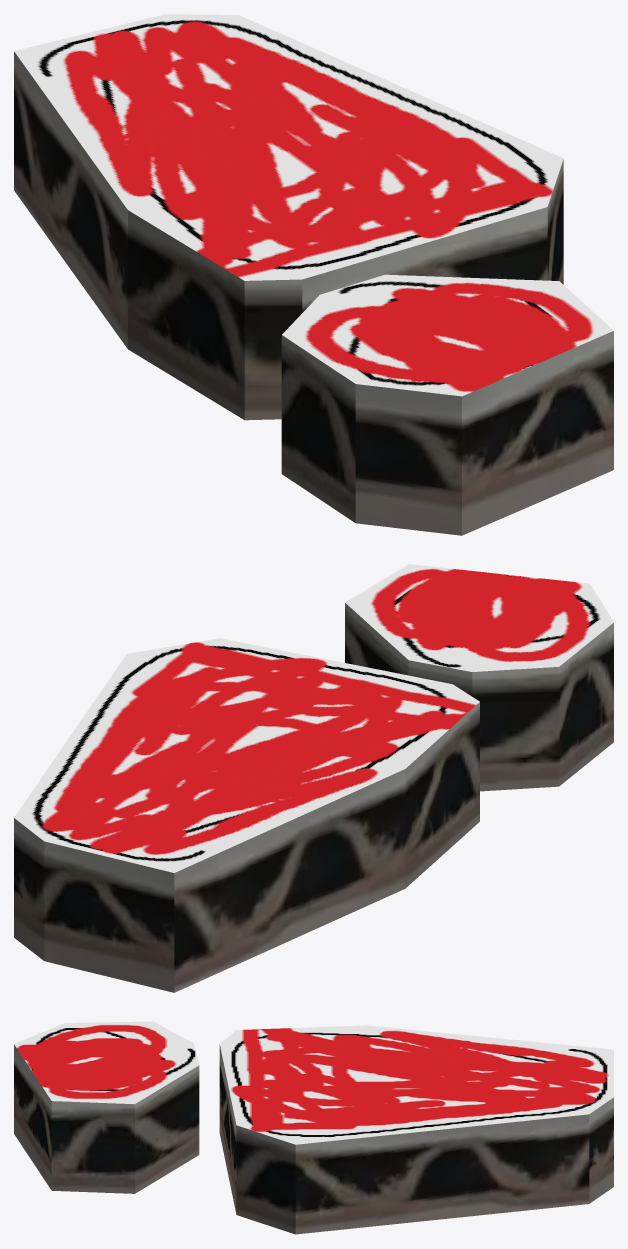
Rendered from exclamation.fbx.
The picture shows the model from 3 angles, top to bottom: view 1: azimuth 30°, elevation 25°; view 2: azimuth 150°, elevation 25°; view 3: azimuth 270°, elevation 25°; orthographic projection. The views are drawn at different scales.
Visible parts, largest first — view 1: Plane; view 2: Plane; view 3: Plane.
Boxes of the visible parts, left/top/right/bottom form: Plane: left=14, top=14, right=613, bottom=535; Plane: left=14, top=564, right=613, bottom=992; Plane: left=14, top=1021, right=613, bottom=1234.
Bounding box in the file's own units: 97.27 × 33 × 200.
